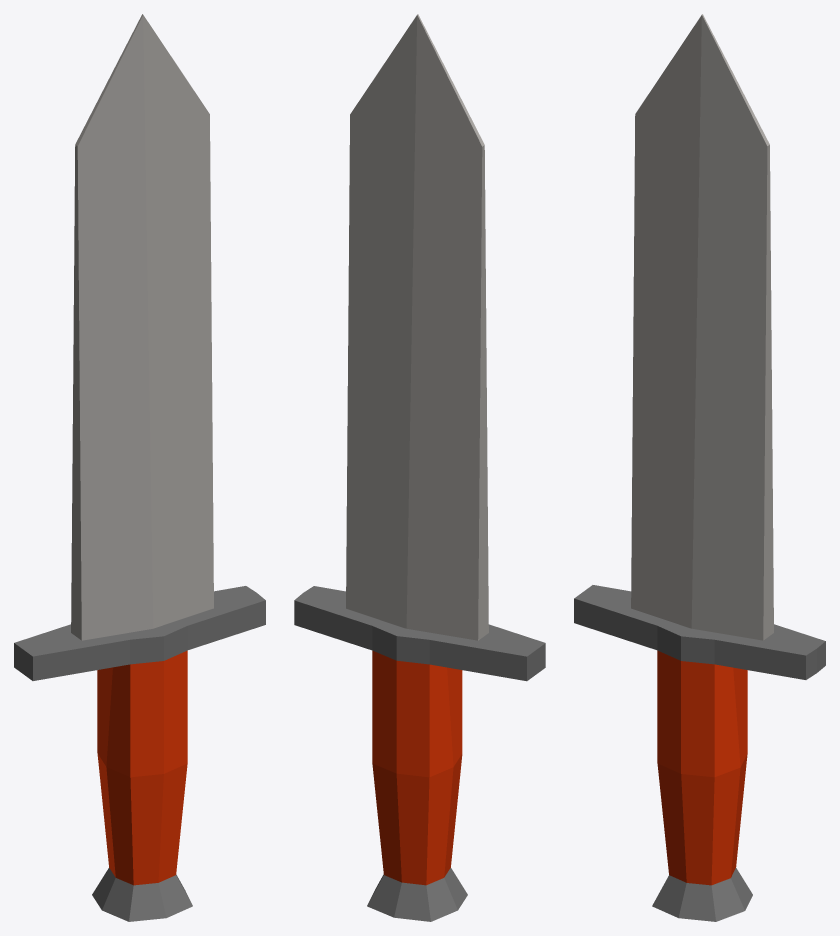
File: Sword.fbx
The picture shows the model from 3 angles, left to right: view 1: azimuth 30°, elevation 25°; view 2: azimuth 150°, elevation 25°; view 3: azimuth 330°, elevation 25°; orthographic projection.
Parts seen in each view (by area): view 1: Sword; view 2: Sword; view 3: Sword.
Part boxes in pixels (box(x1,y1,x2,y2)): Sword: box(14, 14, 265, 921); Sword: box(294, 14, 545, 921); Sword: box(574, 14, 825, 921).
Size of the model in its own units: 8.17 by 2.87 by 29.64.
